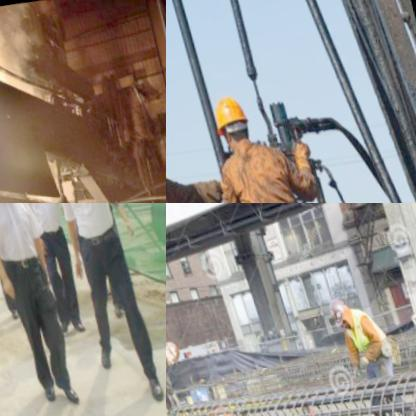helmet: (203, 87, 256, 157), (323, 292, 354, 331), (166, 335, 181, 368)
